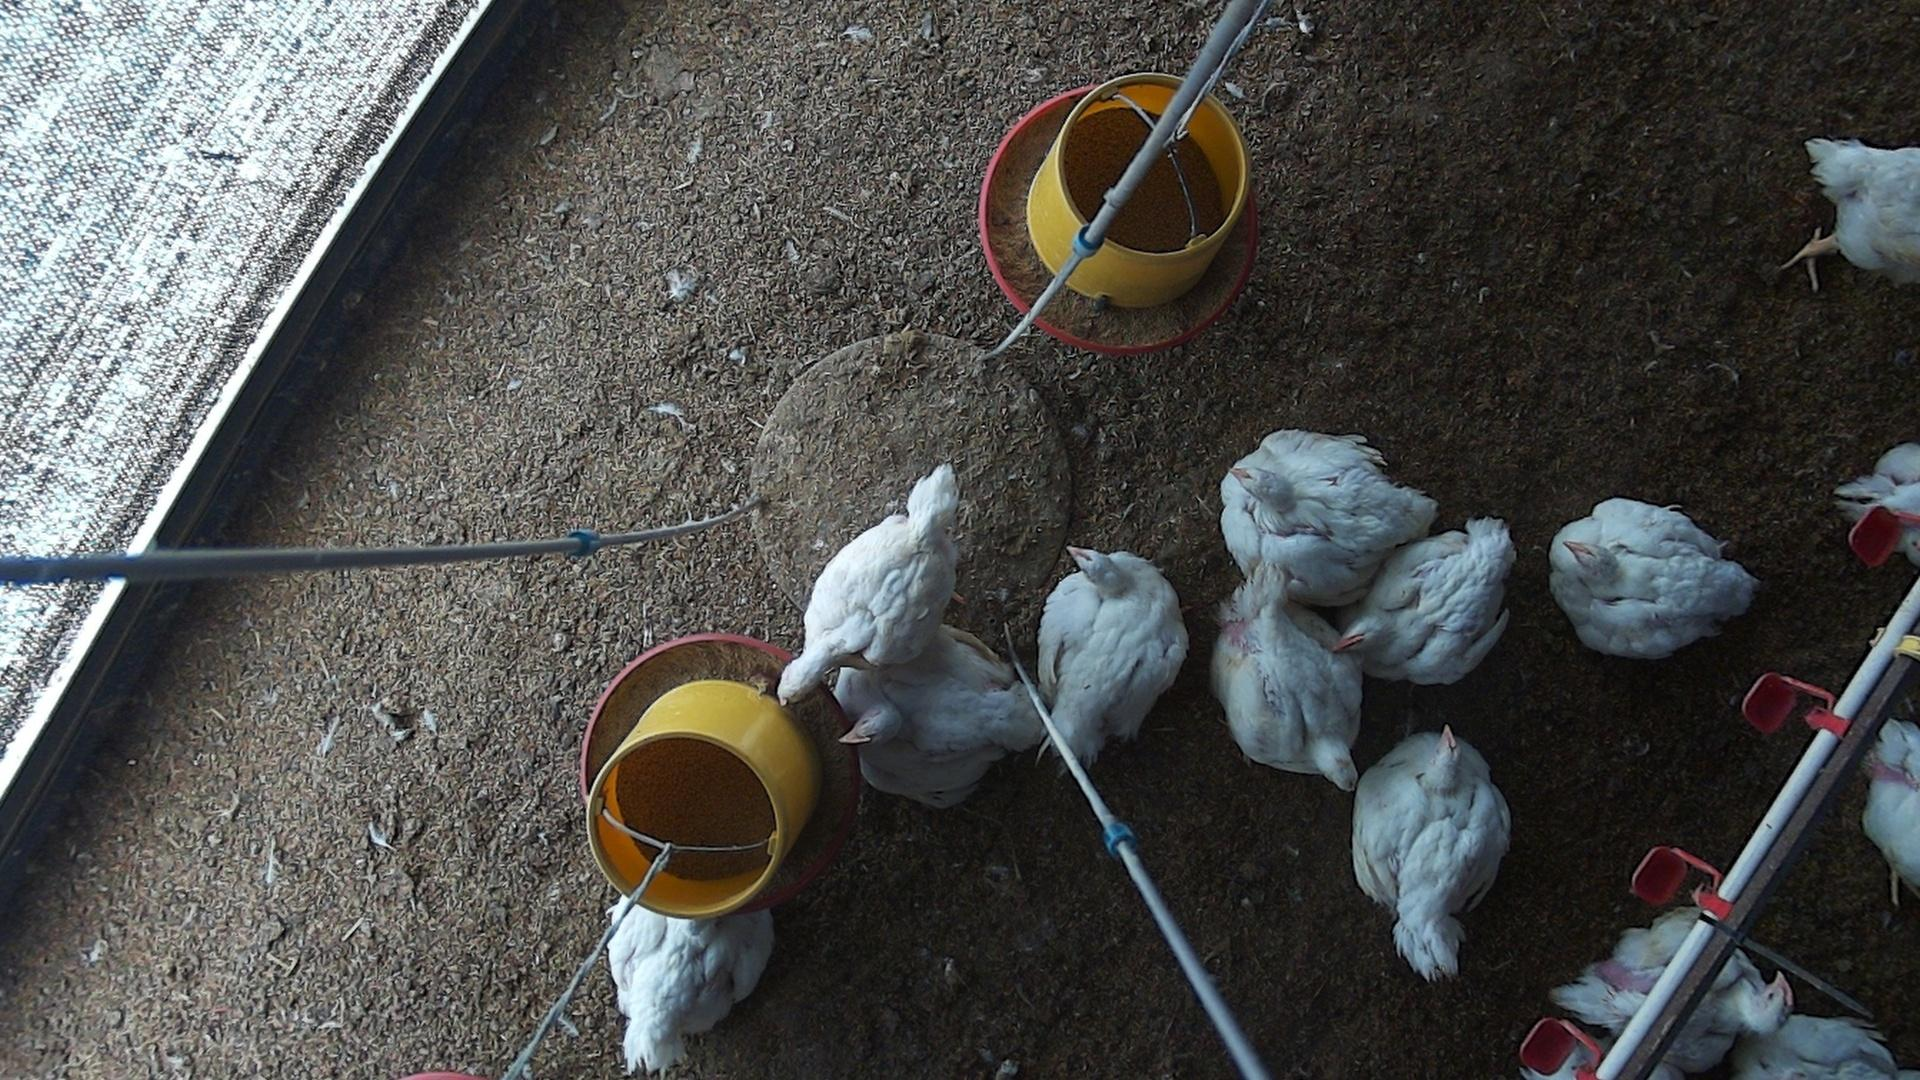ayam_broiler: (779, 469, 955, 703), (1354, 728, 1510, 980), (836, 626, 1043, 808), (1218, 430, 1437, 600), (1211, 564, 1360, 789), (1549, 498, 1756, 659), (1039, 550, 1188, 773), (607, 902, 773, 1076), (1345, 520, 1515, 684), (1795, 138, 1920, 285)
